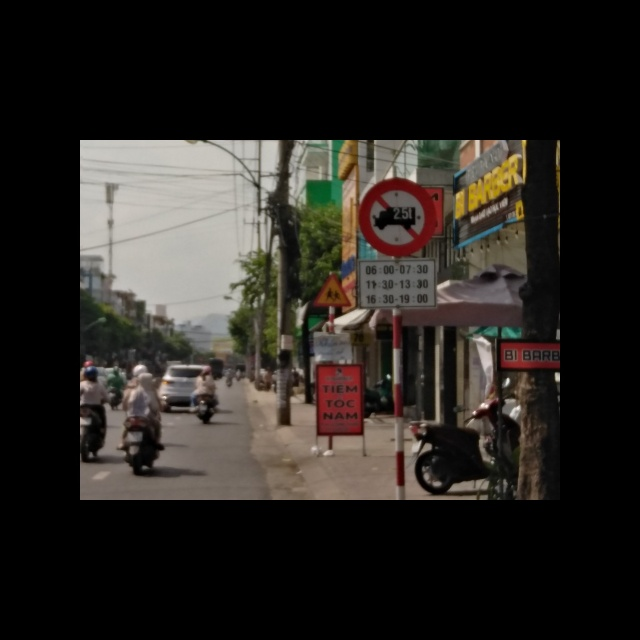Cấm xe tải: (355, 177, 436, 257)
Trẻ em ngang qua: (308, 270, 348, 307)
